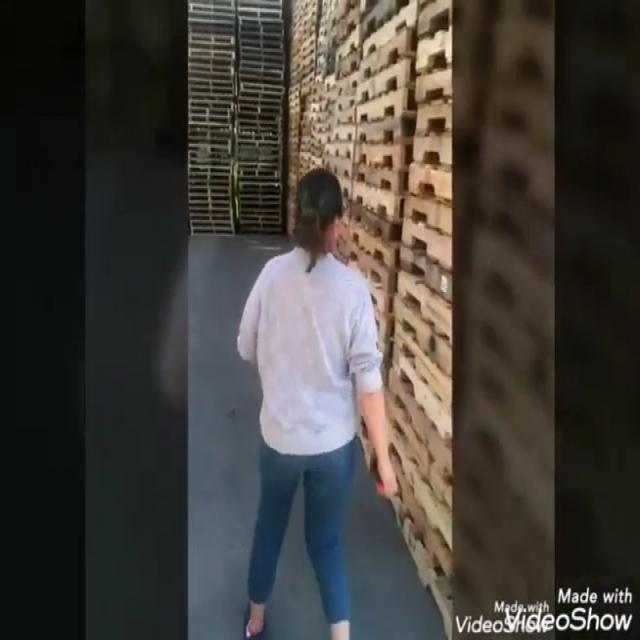Palette: (394, 0, 456, 640), (286, 0, 399, 168), (235, 0, 290, 248), (186, 0, 238, 242)
